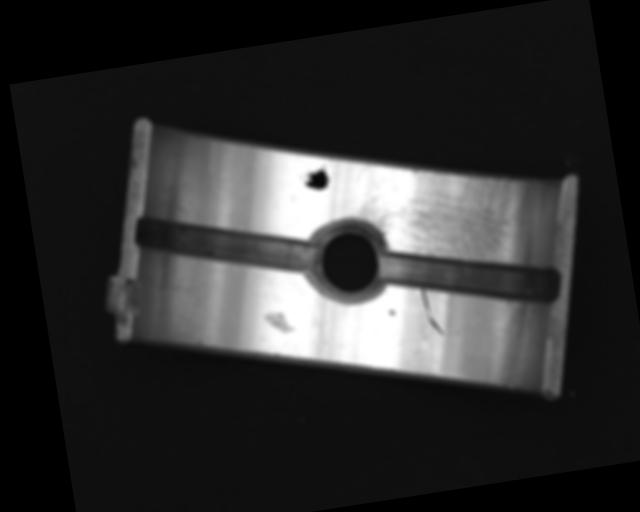blot: (297, 164, 332, 193)
bruise: (263, 308, 294, 336), (388, 308, 395, 318)
gap: (375, 226, 564, 329), (133, 192, 319, 296)
hole: (303, 215, 393, 308)
nick: (419, 286, 444, 339)
scratch: (343, 143, 541, 285)
